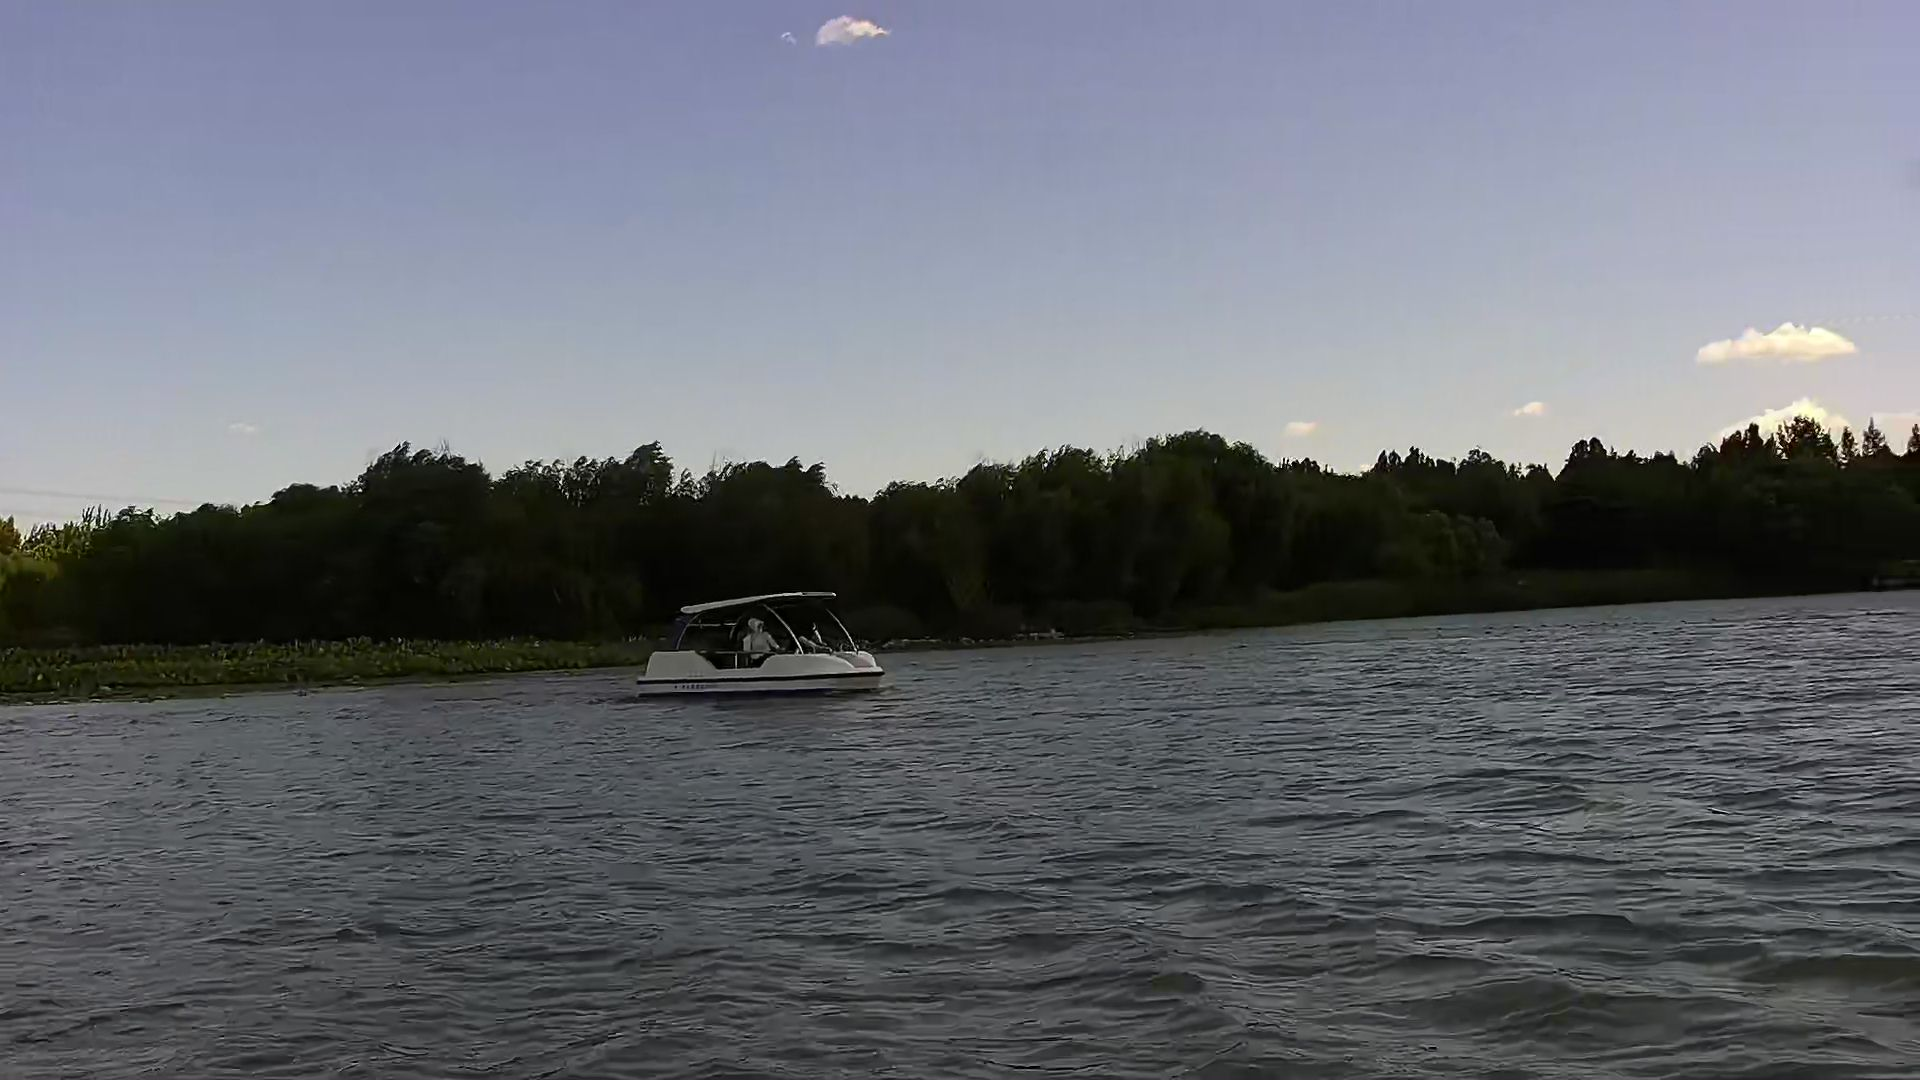boat: (631, 583, 888, 701)
person: (740, 615, 782, 664)
